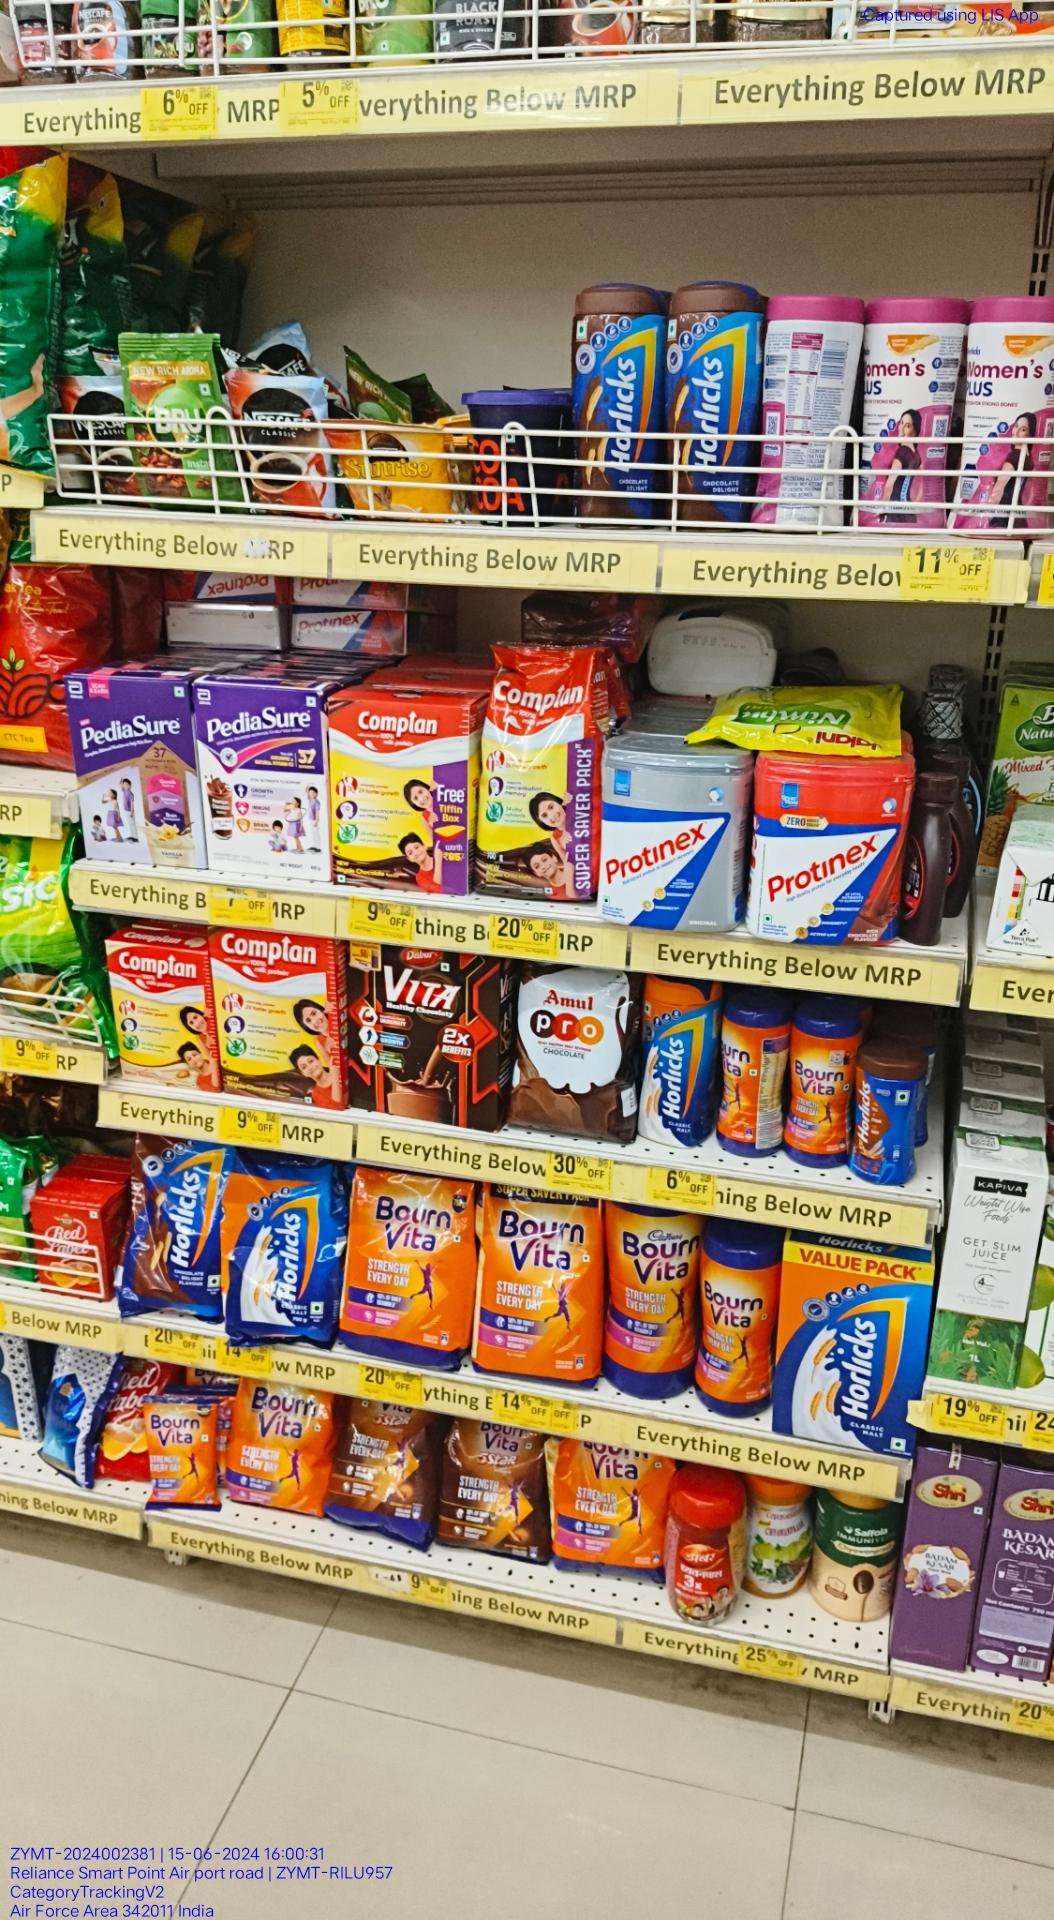BOURN_VITA_1_KG_JAR: (605, 1201, 693, 1398)
BOURN_VITA_1_KG_POUCH: (476, 1188, 600, 1386)
BOURN_VITA_200_G_JAR: (787, 1014, 849, 1168), (717, 1005, 780, 1153)
BOURN_VITA_500_G_JAR: (700, 1238, 768, 1417)
BOURN_VITA_500_G_POUCH: (552, 1435, 658, 1571)
BOURN_VITA_750_G_POUCH: (343, 1178, 470, 1370), (226, 1382, 322, 1510)
BOURN_VITA_75_G_POUCH: (151, 1397, 215, 1505)
BOURN_VITA_FIVE_STAR_MAGIC_500_G_POUCH: (440, 1415, 546, 1559), (330, 1402, 424, 1535)
COMPLAN_RC_POUCH_700_GMS_12: (476, 650, 591, 903)
HORLICK_CHOCOLATE_200_G_JAR: (853, 1057, 920, 1184)
HORLICK_CLASSIC_MALT_200_G_JAR: (639, 974, 707, 1146)
HORLICK_CLASSIC_MALT_500_G_PACK: (775, 1245, 913, 1452)
PEDIASURE_VANILLA_500_G_PACK: (80, 678, 192, 870)
PROTINEX_CHOCOLATE_400_G_JAR: (749, 759, 898, 943)
PROTINEX_ORIGINAL_400_G_JAR: (598, 749, 735, 935)
